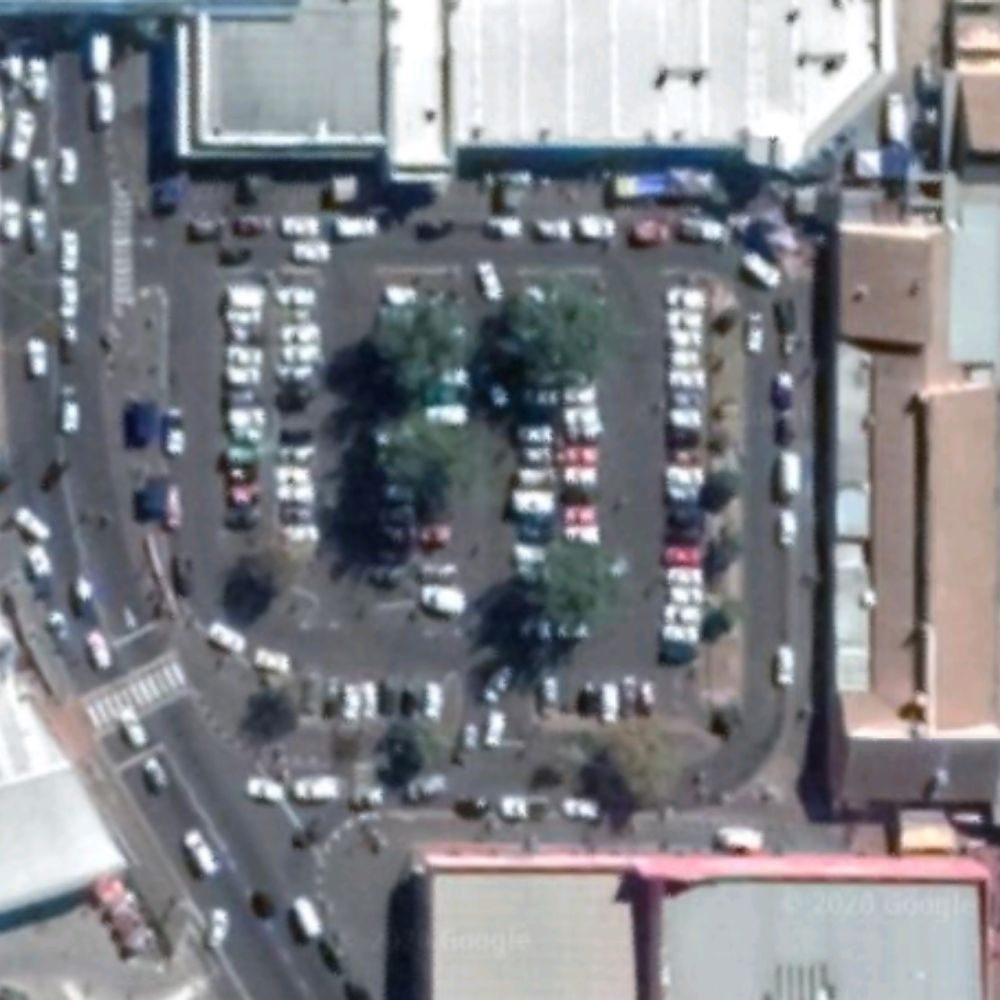parking: (120, 215, 785, 795)
